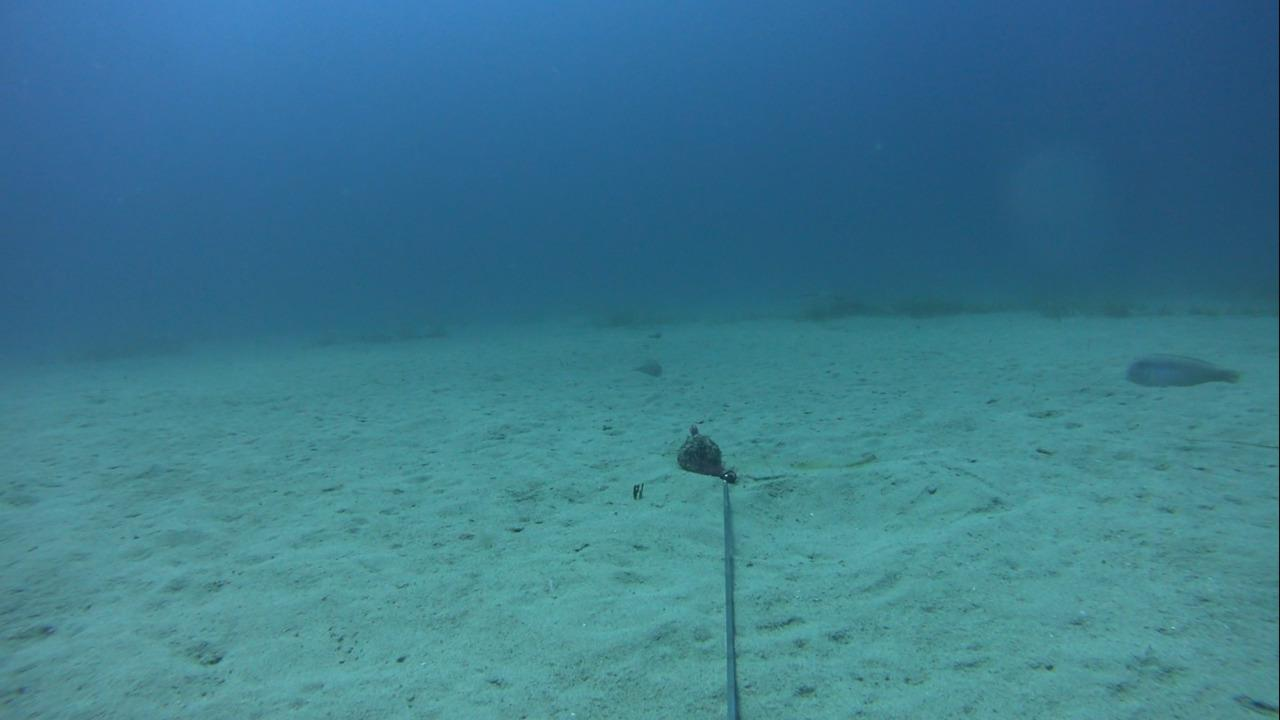raor: (1118, 348, 1242, 390), (626, 353, 667, 378)
